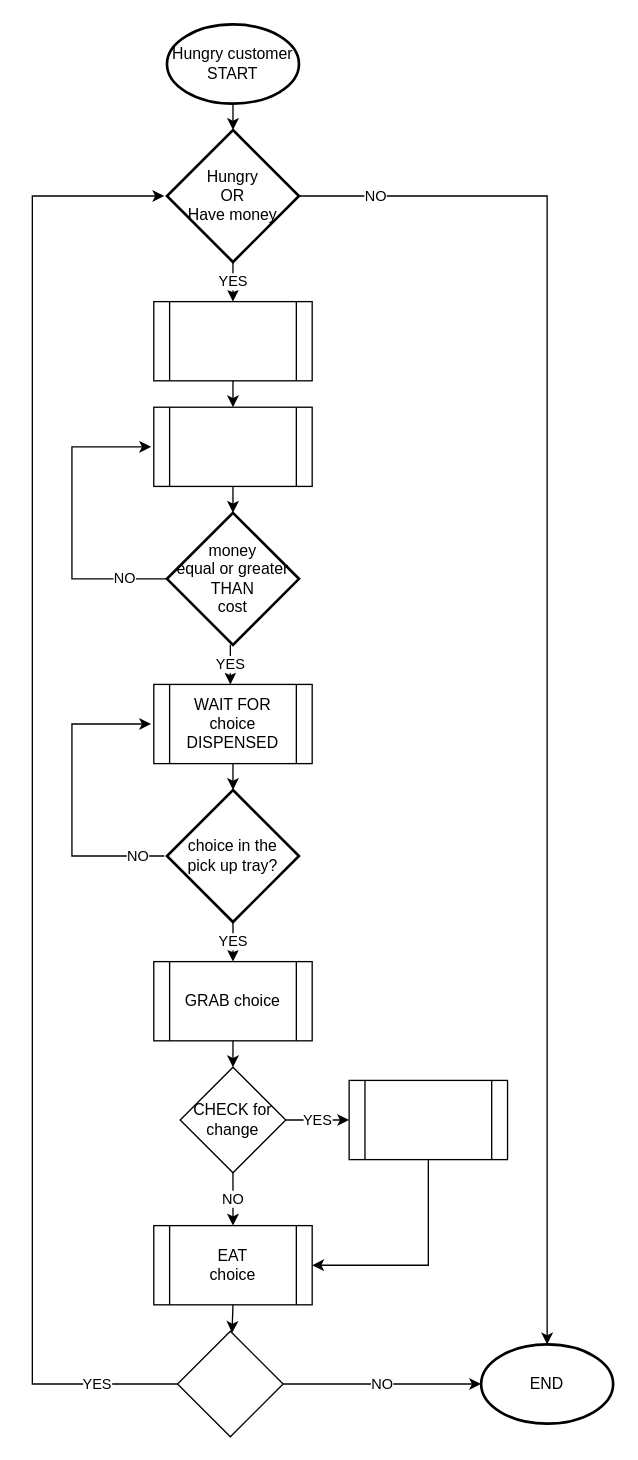
Some shapes in this 638 by 1460 pixel diagram are drawn without their labels. Here are the shapes that lost their labels. From the top down, the centre of each, then its label:
(x=232, y=340): SELECT choice
(x=232, y=446): INSERT money
(x=428, y=1119): TAKE change
(x=229, y=1383): Hungry?
